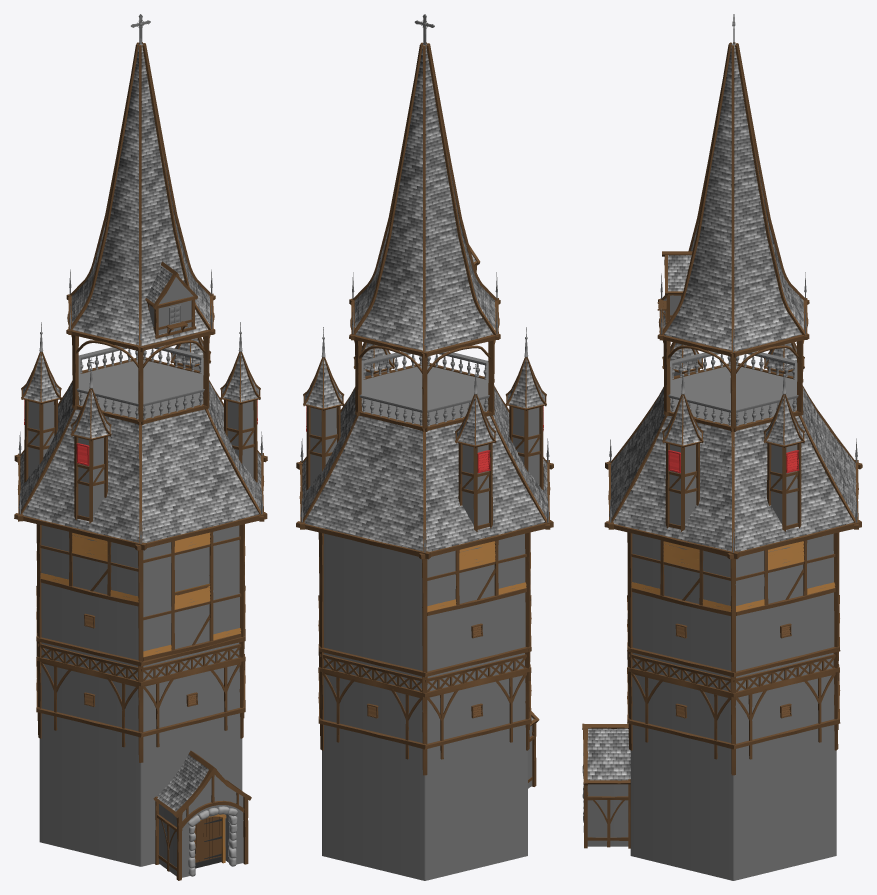
File: SM_tower_building.fbx
3 renders of one model, left to right at view 1: azimuth 30°, elevation 25°; view 2: azimuth 150°, elevation 25°; view 3: azimuth 270°, elevation 25°, orthographic.
Parts seen in each view (by area): view 1: Object32702; view 2: Object32702; view 3: Object32702.
Boxes of the visible parts, left/top/right/bottom form: Object32702: left=14, top=14, right=267, bottom=880; Object32702: left=296, top=14, right=553, bottom=880; Object32702: left=582, top=14, right=862, bottom=880.
Bounding box in the file's own units: 684 × 2102 × 653.
Materials: 10 (1 with a texture image).
